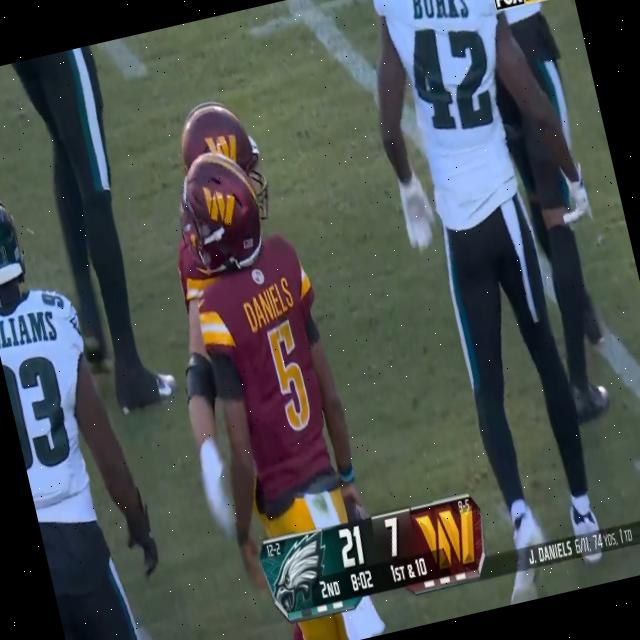Player: (344, 0, 640, 555), (147, 138, 383, 548), (0, 152, 175, 640)
